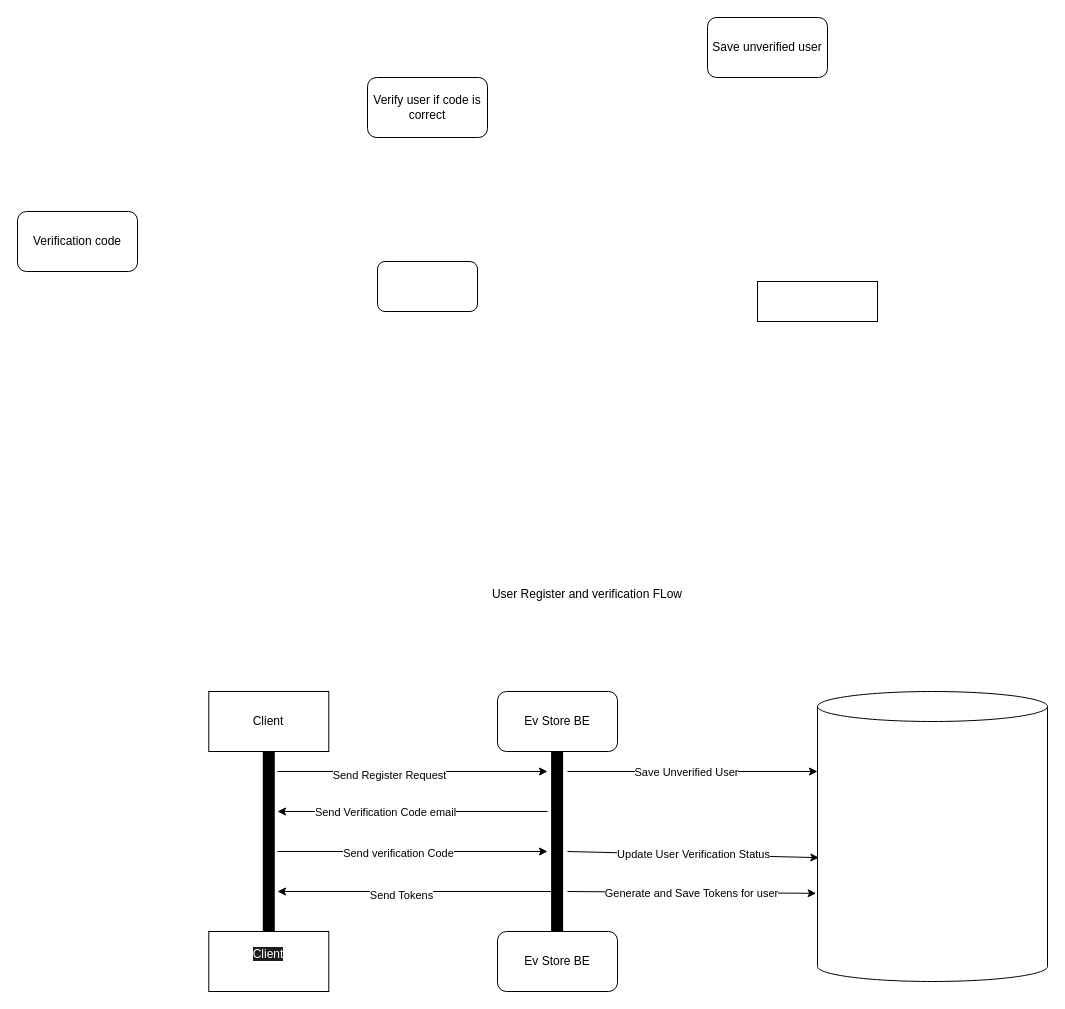
Some shapes in this 1065 by 1009 pixel diagram are drawn without their labels. Here are the shapes that lost their labels. From the top down, the centre of each, then its label:
At [427,286]: "Login Request".
At [817,301]: "Verify Email".
At [932,836]: "DB".
